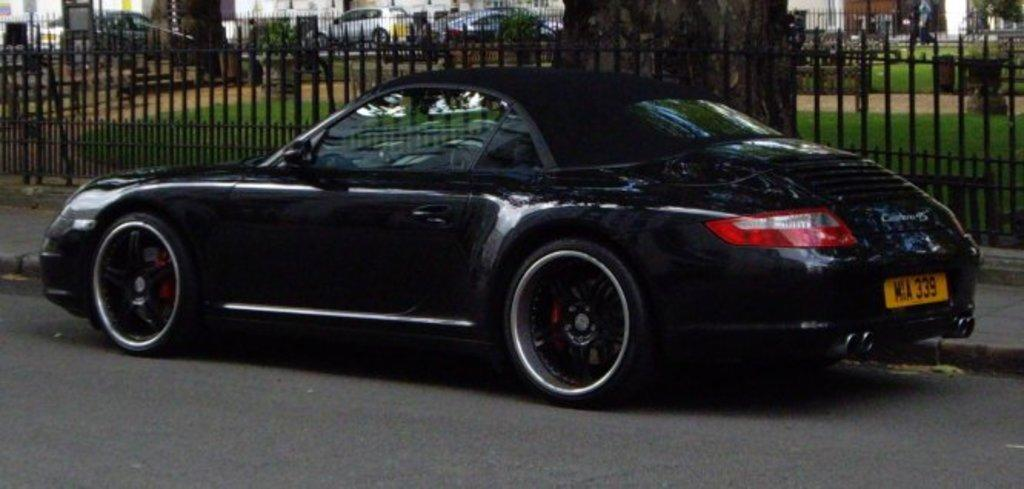Car: (20, 71, 1024, 412), (444, 5, 557, 38), (63, 11, 151, 49), (315, 5, 406, 40)
